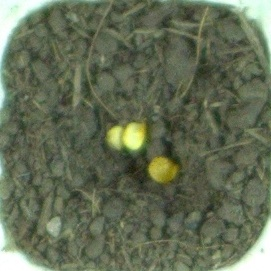pepper seed: (58, 64, 238, 248), (50, 46, 196, 197), (40, 48, 166, 198)
